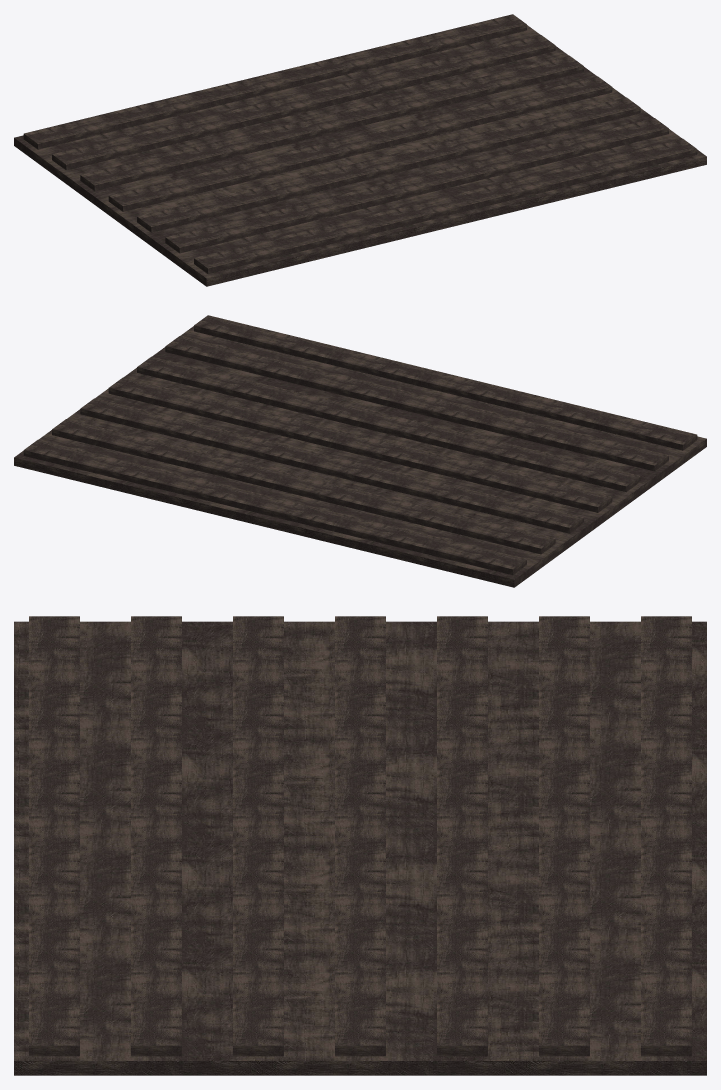
Rendered from prop_crop_field_fallow.glb.
The picture shows the model from 3 angles, top to bottom: view 1: azimuth 30°, elevation 25°; view 2: azimuth 150°, elevation 25°; view 3: azimuth 270°, elevation 25°; orthographic projection. The views are drawn at different scales.
Visible parts, largest first — view 1: prop_crop_field_fallow; view 2: prop_crop_field_fallow; view 3: prop_crop_field_fallow.
Part boxes in pixels (left/top/right/bottom): prop_crop_field_fallow: left=14, top=14, right=706, bottom=286; prop_crop_field_fallow: left=14, top=315, right=706, bottom=587; prop_crop_field_fallow: left=14, top=616, right=706, bottom=1075.
Size of the model in its own units: 9 by 0.24 by 6.
Materials: 1 (1 with a texture image).
